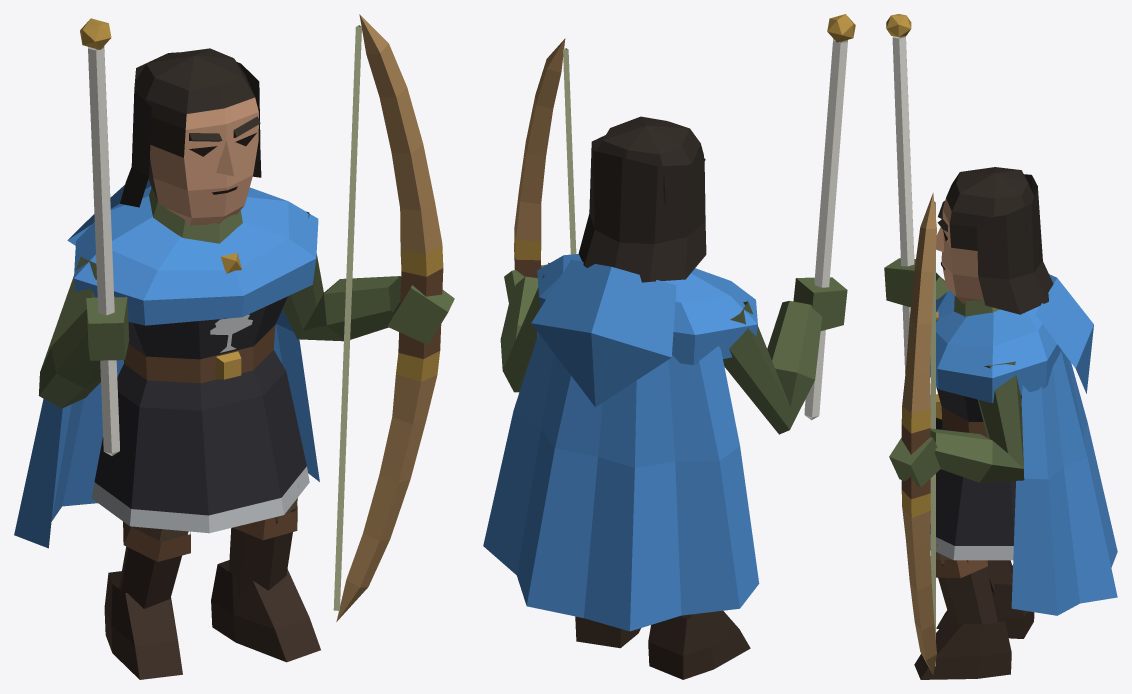
File: faramir-3.glb
3 views of the same model, side by side, from view 1: azimuth 30°, elevation 25°; view 2: azimuth 150°, elevation 25°; view 3: azimuth 270°, elevation 25° (orthographic). The views are drawn at different scales.
Visible parts, largest first — view 1: faramir-3; view 2: faramir-3; view 3: faramir-3.
Boxes of the visible parts, x1=… form: faramir-3: x1=14, y1=14, x2=454, y2=679; faramir-3: x1=483, y1=14, x2=855, y2=679; faramir-3: x1=884, y1=14, x2=1117, y2=679.
Size of the model in its own units: 0.9752 by 1.71 by 0.6351.
